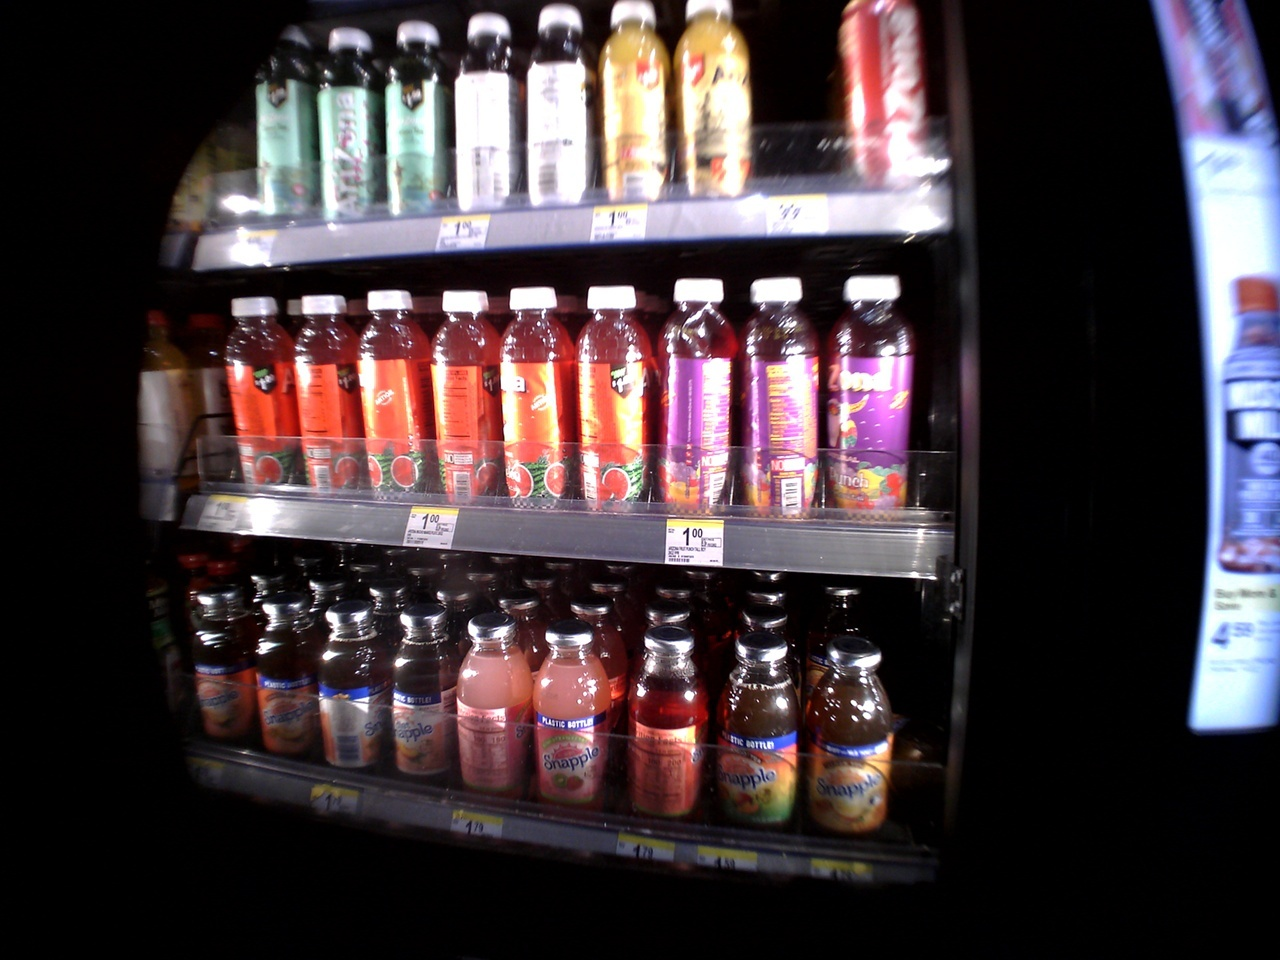shelf: (149, 529, 969, 881), (121, 268, 935, 568), (122, 0, 940, 259)
